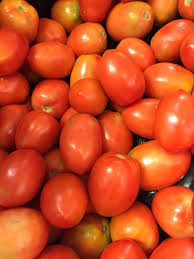tomato: (93, 148, 133, 207), (42, 171, 85, 222), (59, 119, 104, 159), (30, 33, 69, 76), (97, 49, 132, 95), (63, 21, 102, 55), (72, 80, 108, 115), (31, 82, 71, 113), (21, 113, 54, 148)
